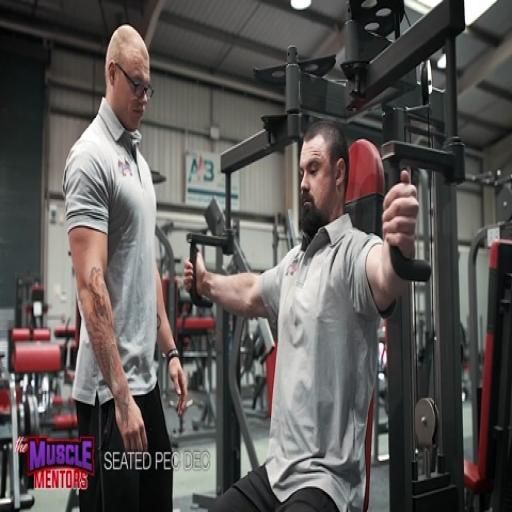exercise: (182, 118, 422, 511), (60, 22, 190, 510)
